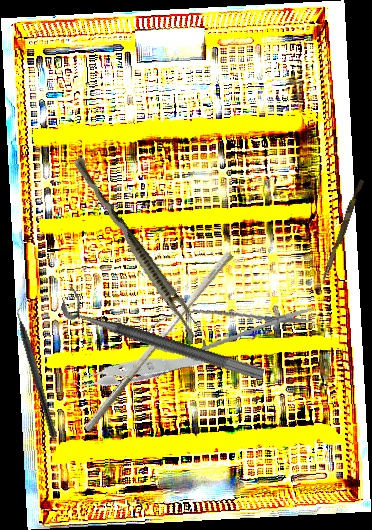Chopper: (9, 296, 67, 440)
Fixation Ring: (58, 284, 271, 383)
Micro Scissor: (133, 291, 319, 363)
Pusher: (83, 245, 234, 439), (320, 178, 365, 286)
Tissue Forceps: (66, 155, 207, 340), (59, 305, 211, 429)
